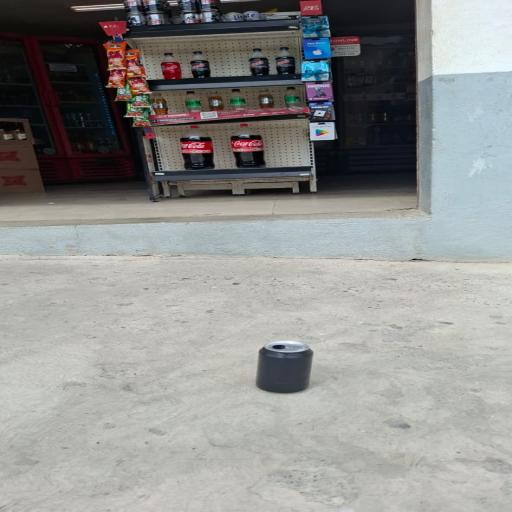LATA: (198, 320, 370, 416)
